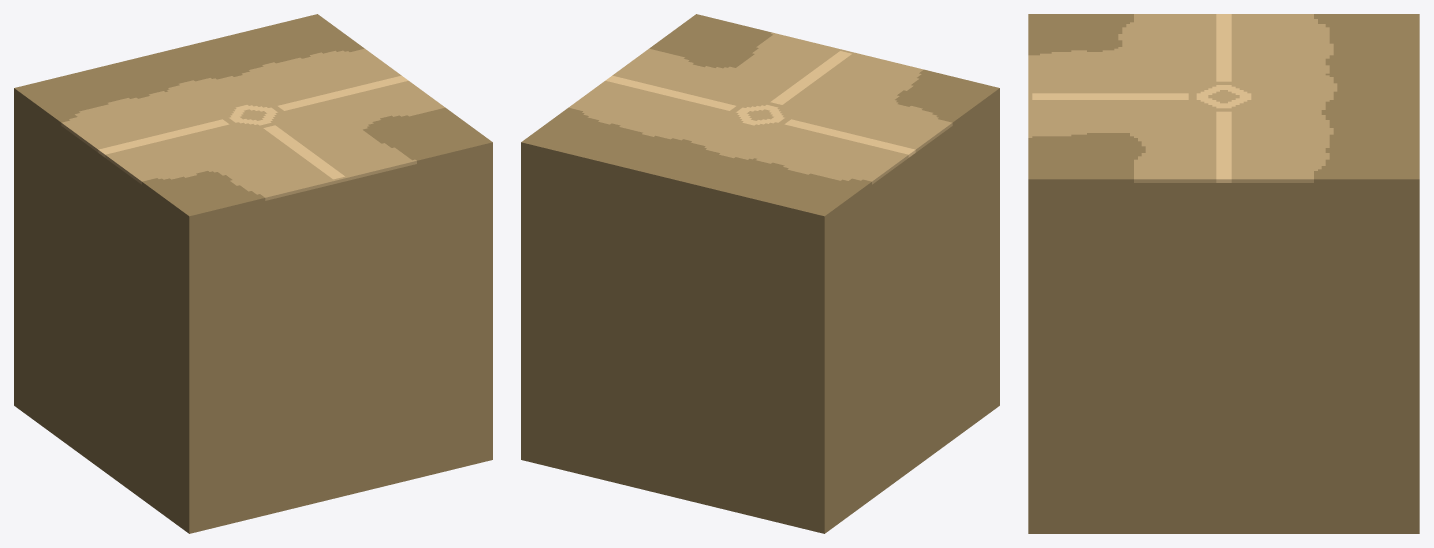
File: floor3.obj
3 views of the same model, side by side, from view 1: azimuth 30°, elevation 25°; view 2: azimuth 150°, elevation 25°; view 3: azimuth 270°, elevation 25° (orthographic). The views are drawn at different scales.
Visible parts, largest first — view 1: floor3; view 2: floor3; view 3: floor3.
Part boxes in pixels (<box>): floor3: <box>14,14,492,533</box>; floor3: <box>521,14,999,533</box>; floor3: <box>1028,14,1419,533</box>.
Size of the model in its own units: 100 by 100 by 100.
1 material, 1 textured.
